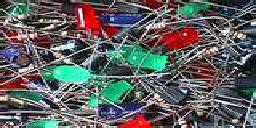LED: (161, 26, 200, 52), (52, 63, 94, 85), (73, 4, 98, 32)
